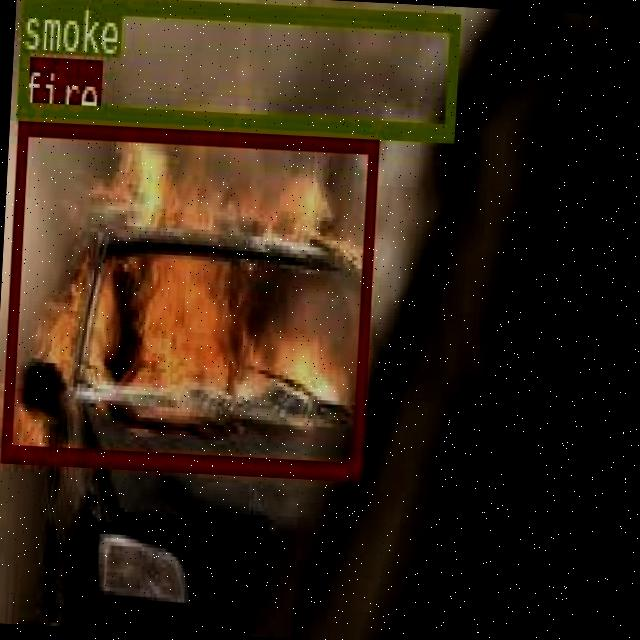fire: (1, 115, 377, 476)
smoke: (17, 0, 458, 137)
